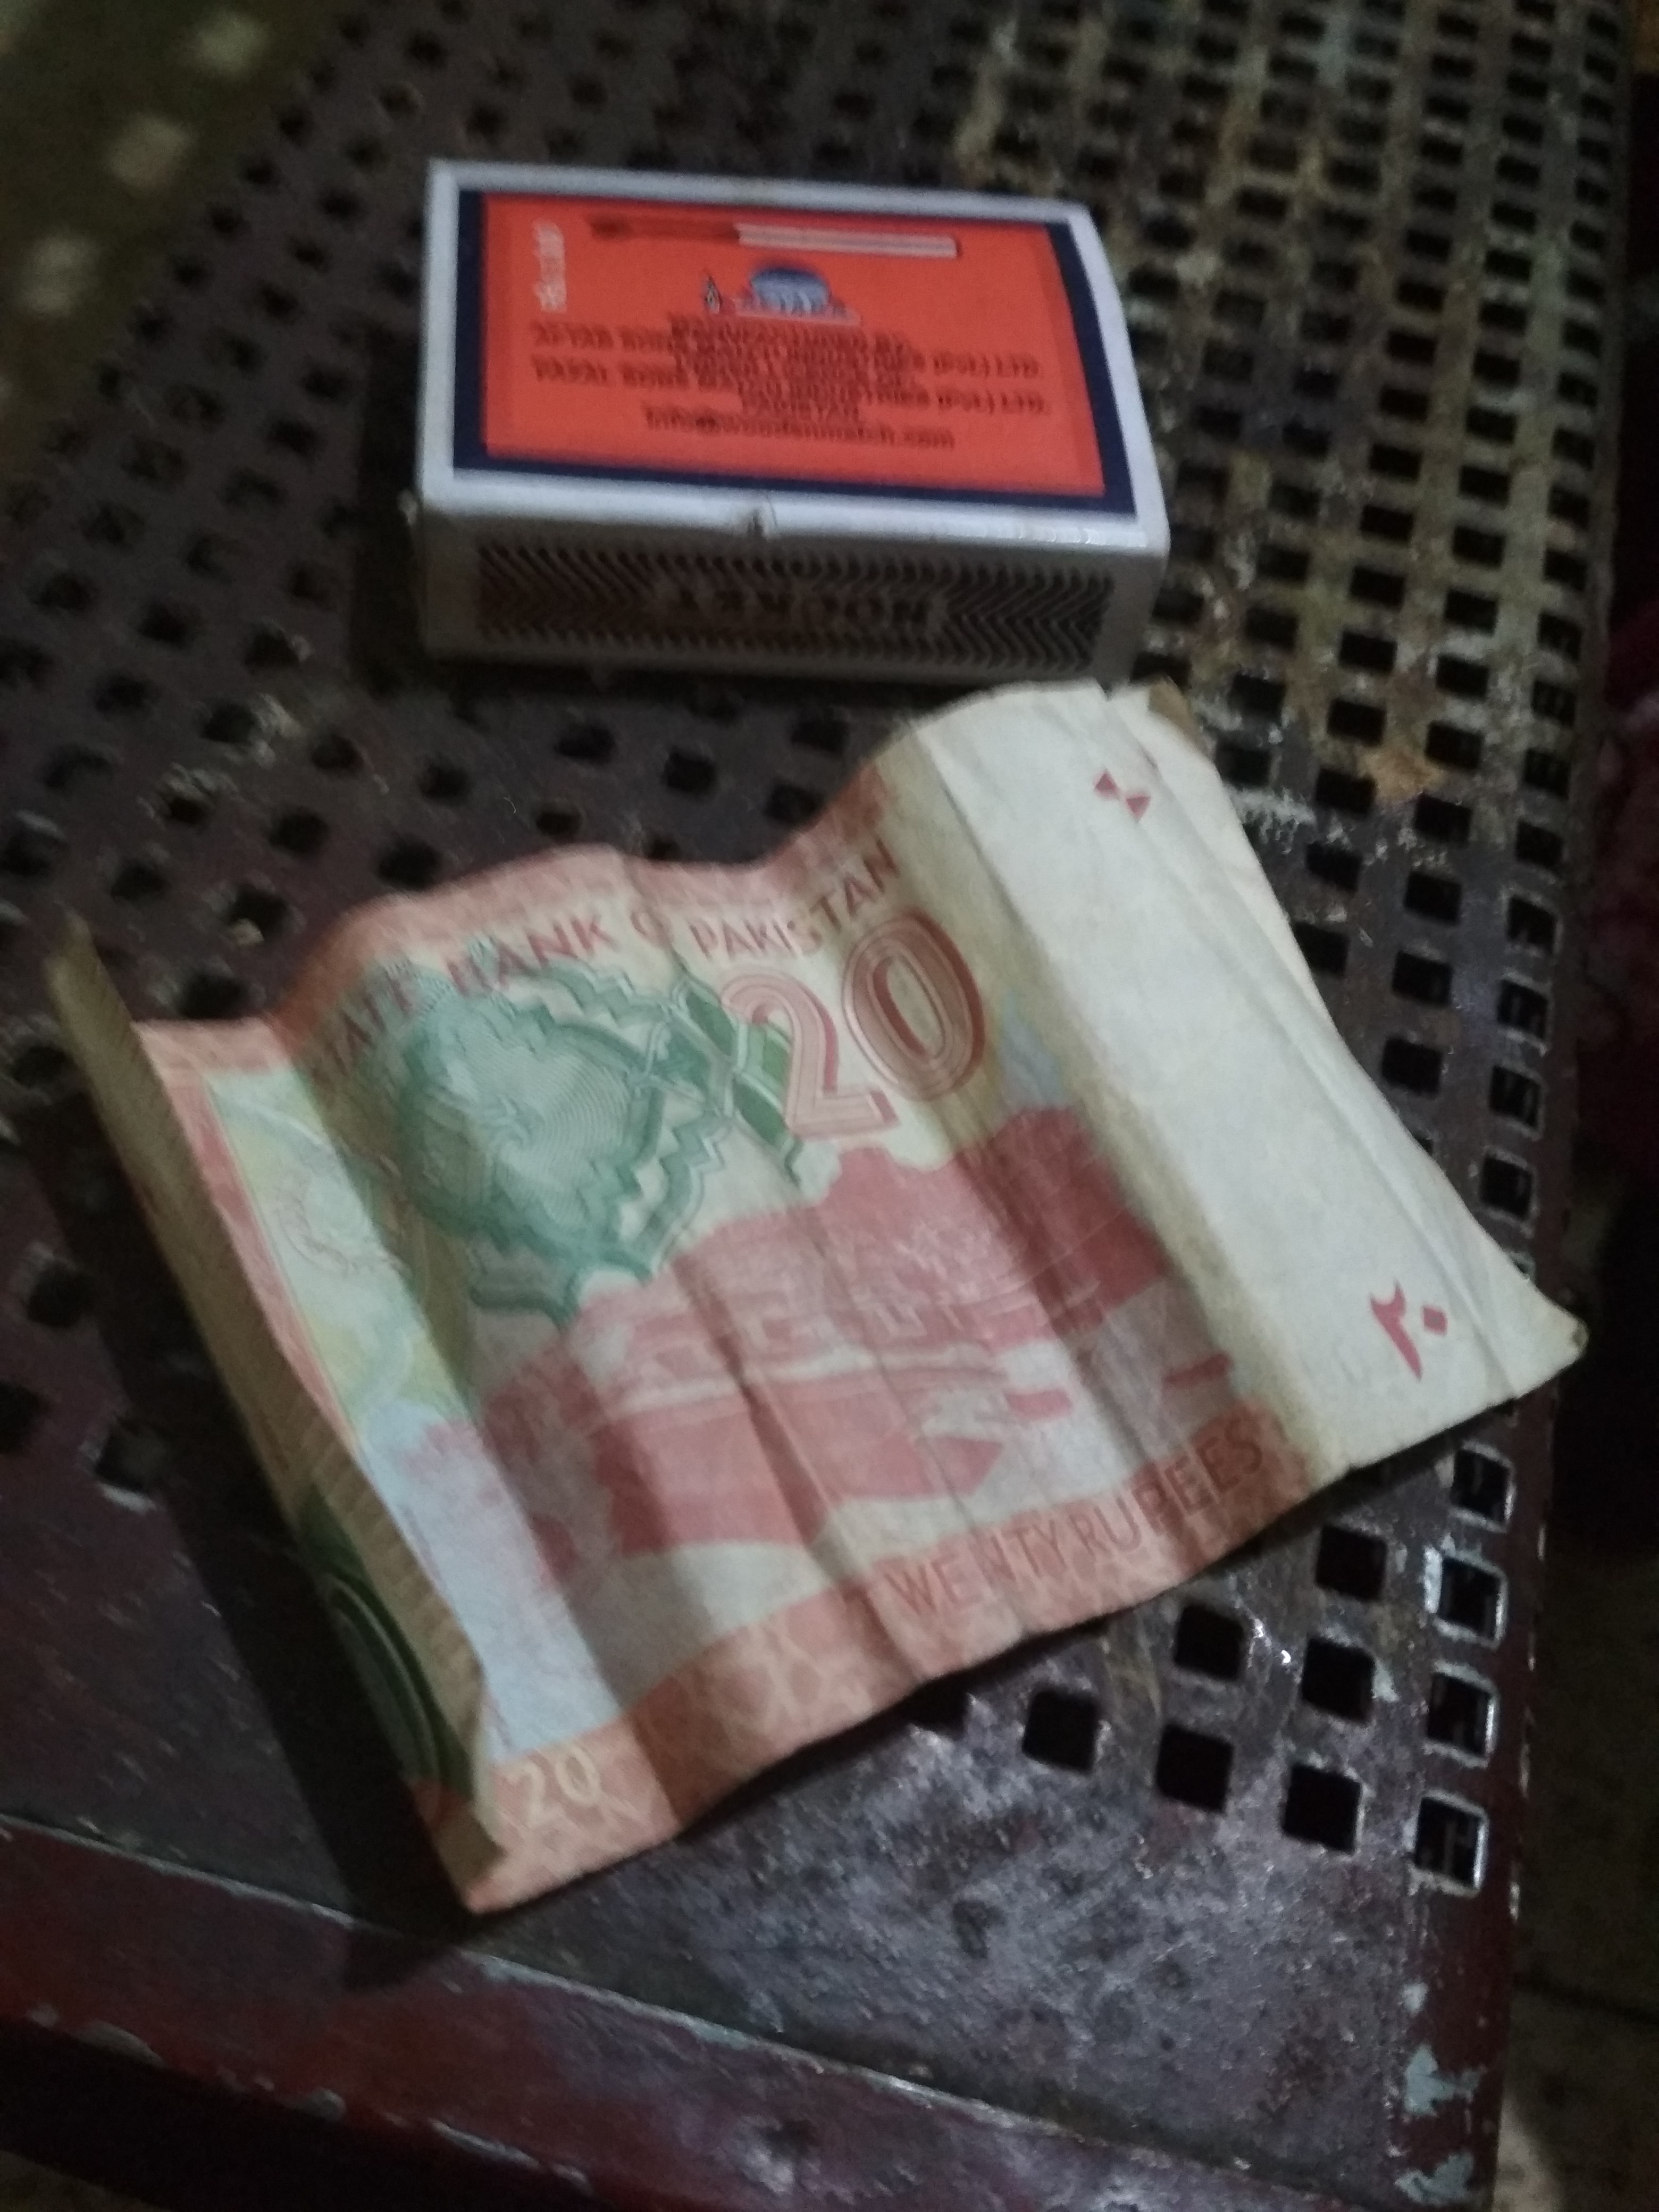20 rupee: (63, 658, 1544, 2024)
